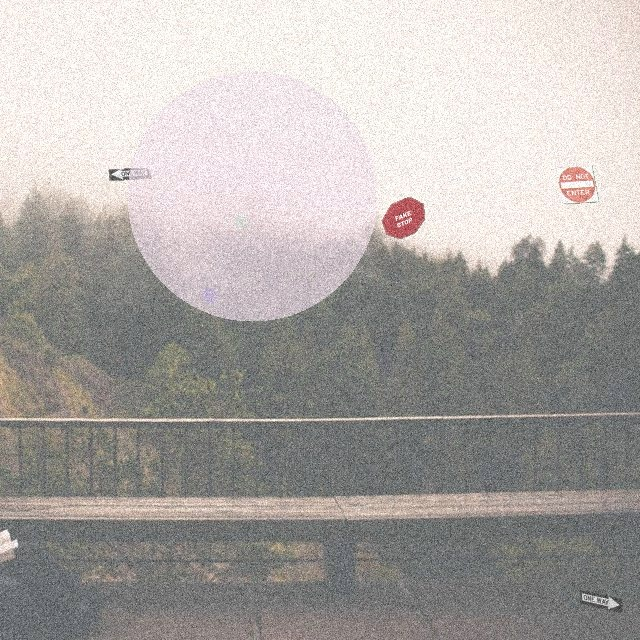DO_NOT_ENTER: (555, 165, 599, 204)
FAKE_STOP: (381, 196, 425, 239)
ONE_WAY_ left: (108, 167, 152, 181)
ONE_WAY_ right: (579, 589, 623, 613)
